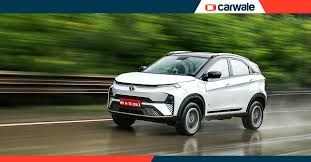Tata Nexon: (106, 49, 268, 134)
